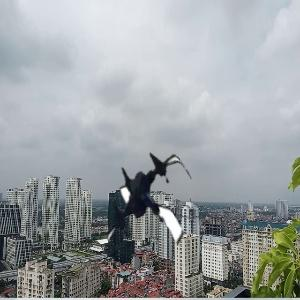drone: (92, 153, 208, 269)
